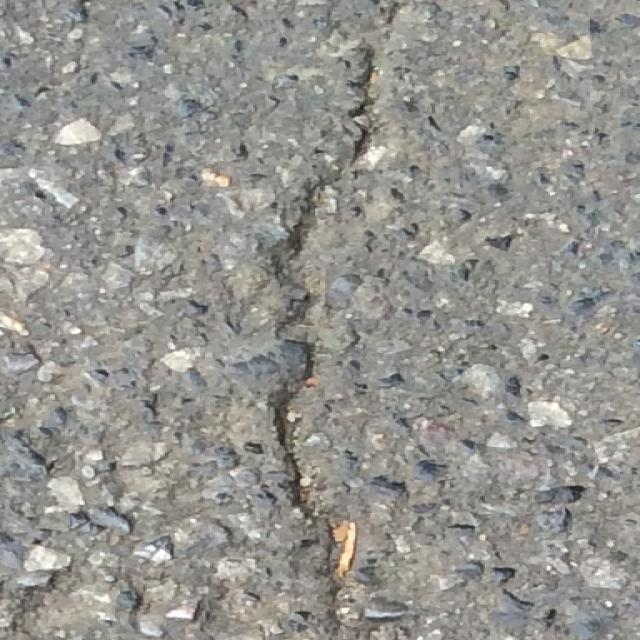crack: (261, 4, 444, 638)
spall: (264, 166, 367, 523)
